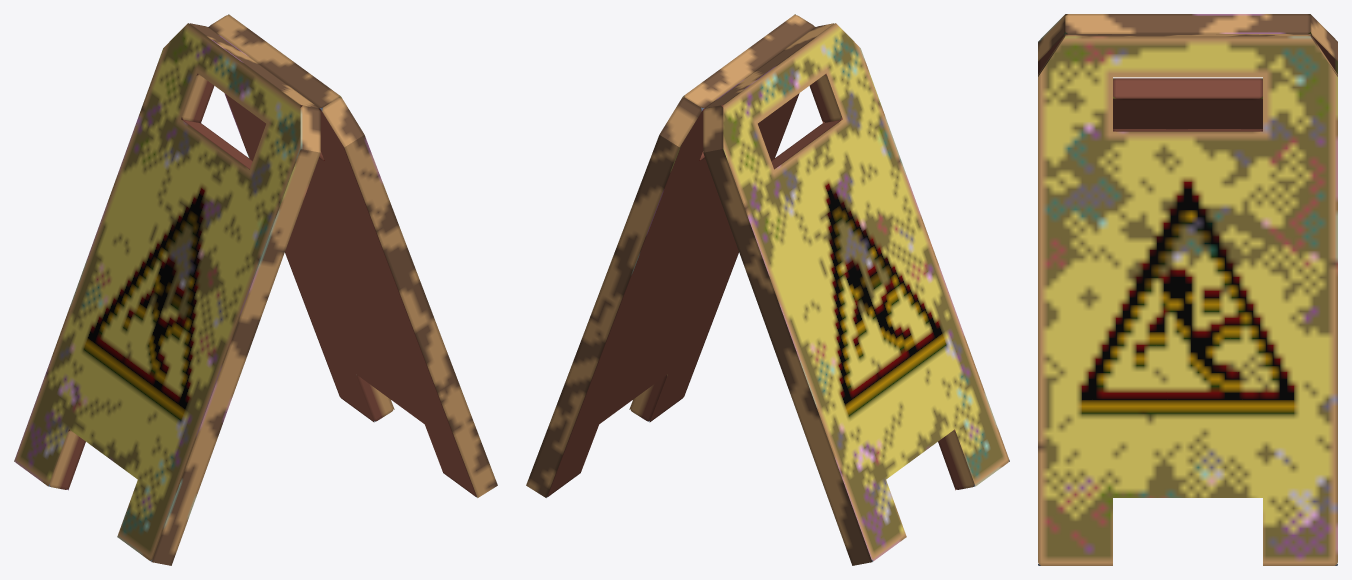
The model's file is WetFloorWarning.fbx.
The picture shows the model from 3 angles, left to right: view 1: azimuth 30°, elevation 25°; view 2: azimuth 150°, elevation 25°; view 3: azimuth 270°, elevation 25°; orthographic projection. The views are drawn at different scales.
Visible parts, largest first — view 1: Wet floor Warning; view 2: Wet floor Warning; view 3: Wet floor Warning.
Part boxes in pixels (x1,y1,x2,y2): Wet floor Warning: [14, 14, 497, 565]; Wet floor Warning: [526, 14, 1009, 565]; Wet floor Warning: [1038, 14, 1337, 565].
Bounding box in the file's own units: 99.97 × 117 × 68.75.
Materials: 1 (1 with a texture image).
